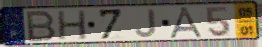5: (204, 6, 232, 38)
7: (98, 8, 124, 41)
A: (167, 6, 207, 40)
B: (25, 9, 58, 43)
H: (56, 9, 89, 41)
J: (134, 8, 158, 39)
